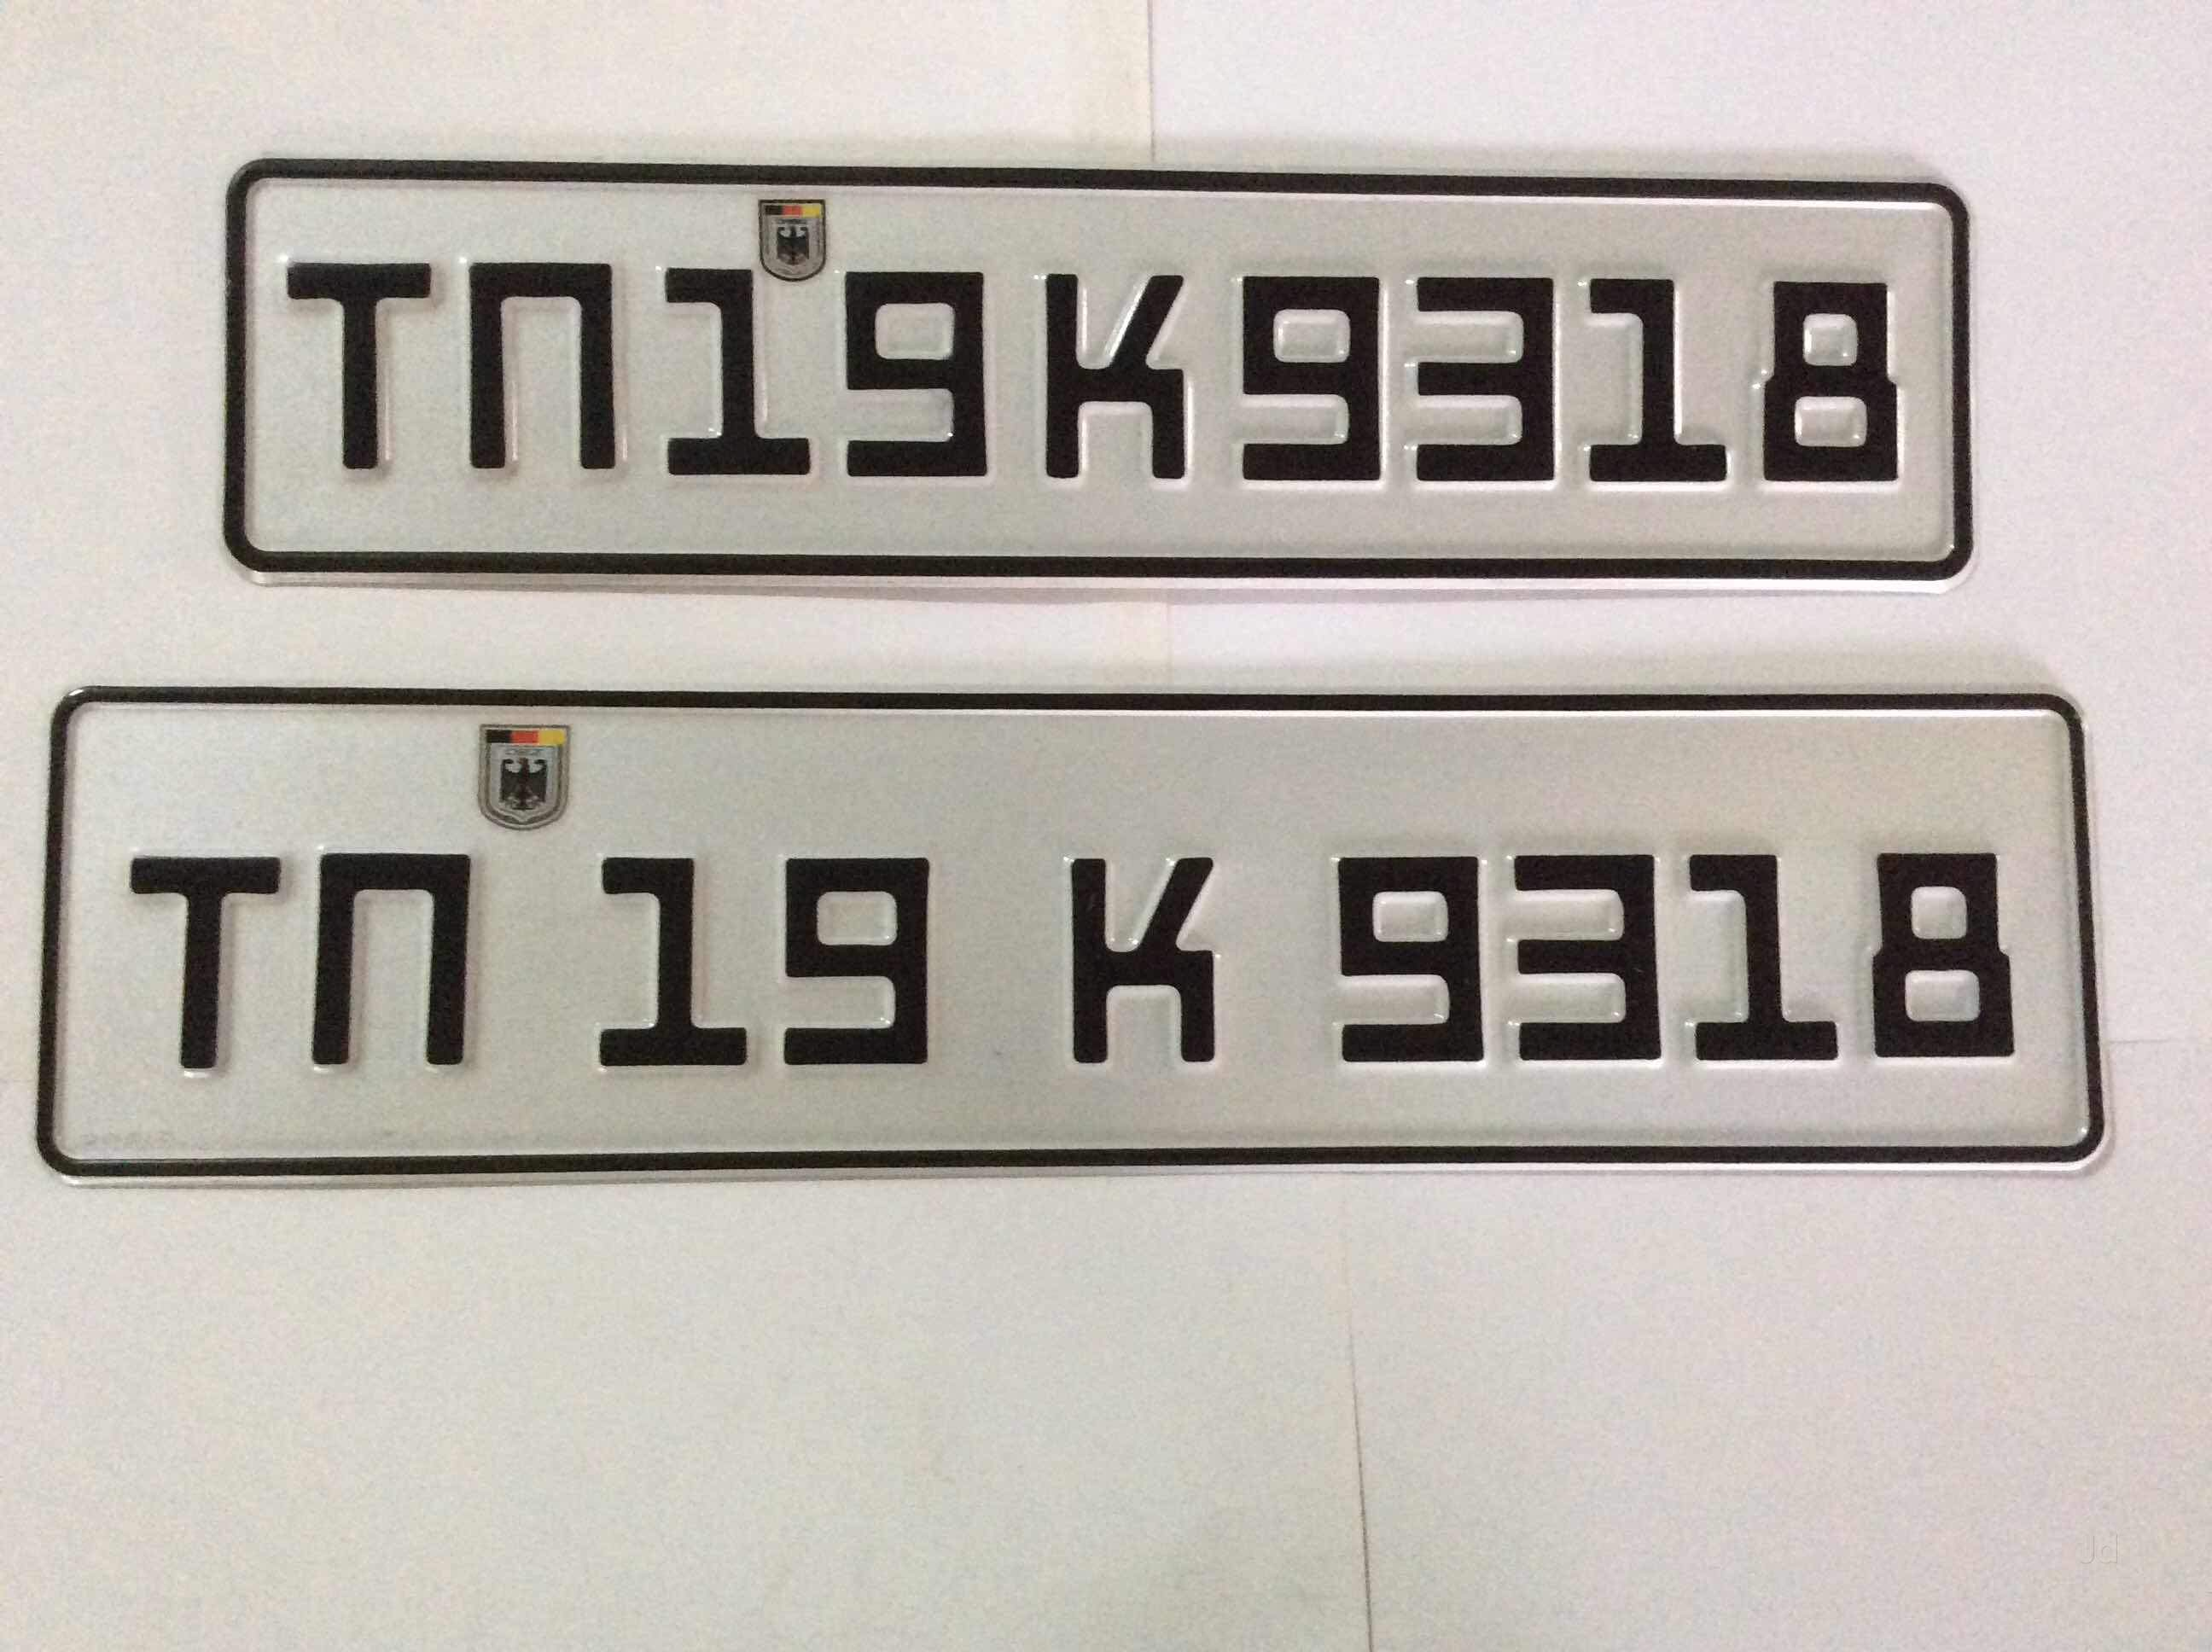number_plate: (255, 162, 1999, 611)
